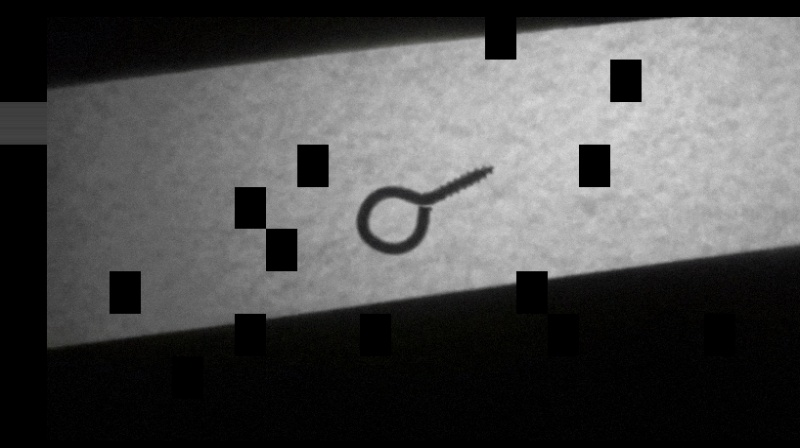O001: (350, 162, 497, 261)
